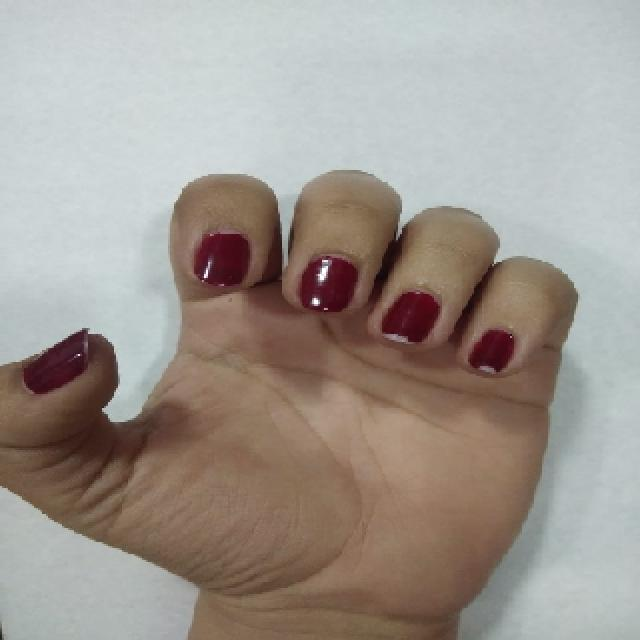Nail: (24, 329, 89, 394), (300, 255, 359, 312), (381, 290, 441, 344), (194, 232, 250, 288), (470, 330, 515, 372)
